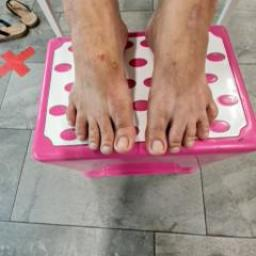Dorsal View -Both Feet-: (50, 3, 236, 170)
